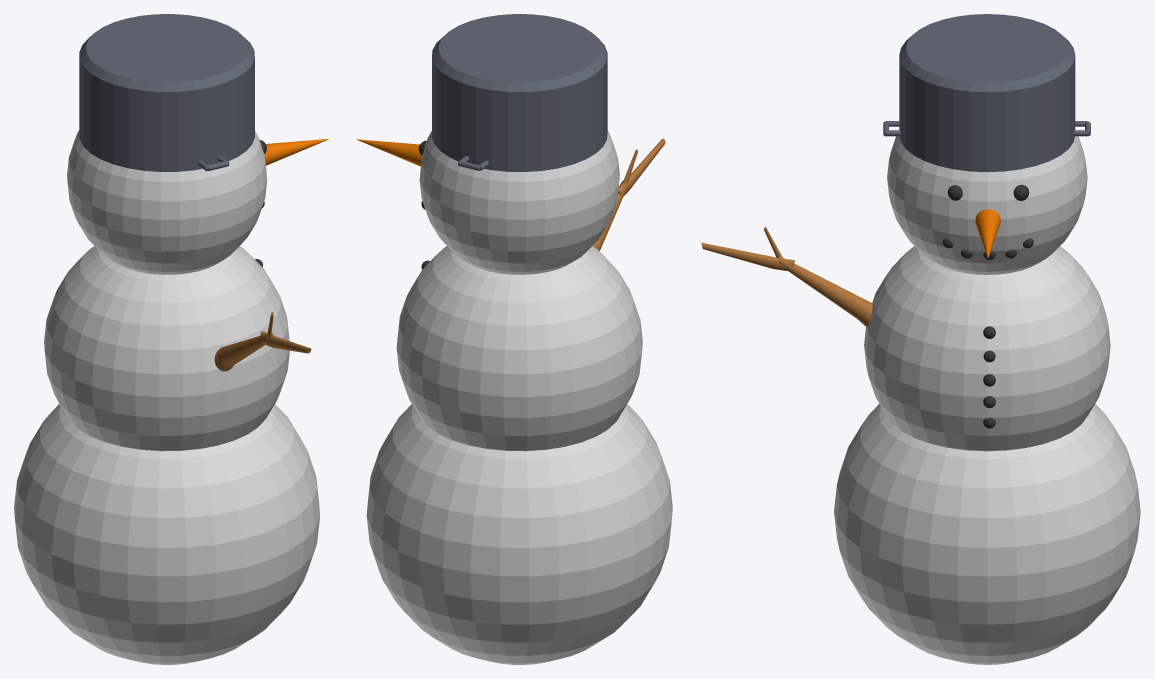
File: Snowman.fbx
The picture shows the model from 3 angles, left to right: view 1: azimuth 30°, elevation 25°; view 2: azimuth 150°, elevation 25°; view 3: azimuth 270°, elevation 25°; orthographic projection.
Visible parts, largest first — view 1: Sphere.001, Cylinder.002; view 2: Sphere.001, Cylinder.002; view 3: Sphere.001, Cylinder.002.
Part boxes in pixels (<box>): Sphere.001: <box>14,246,319,664</box>; Cylinder.002: <box>67,14,328,274</box>; Sphere.001: <box>366,138,672,664</box>; Cylinder.002: <box>357,14,619,274</box>; Sphere.001: <box>701,226,1140,664</box>; Cylinder.002: <box>883,14,1090,274</box>.
Bounding box in the file's own units: 348 × 679 × 449.
